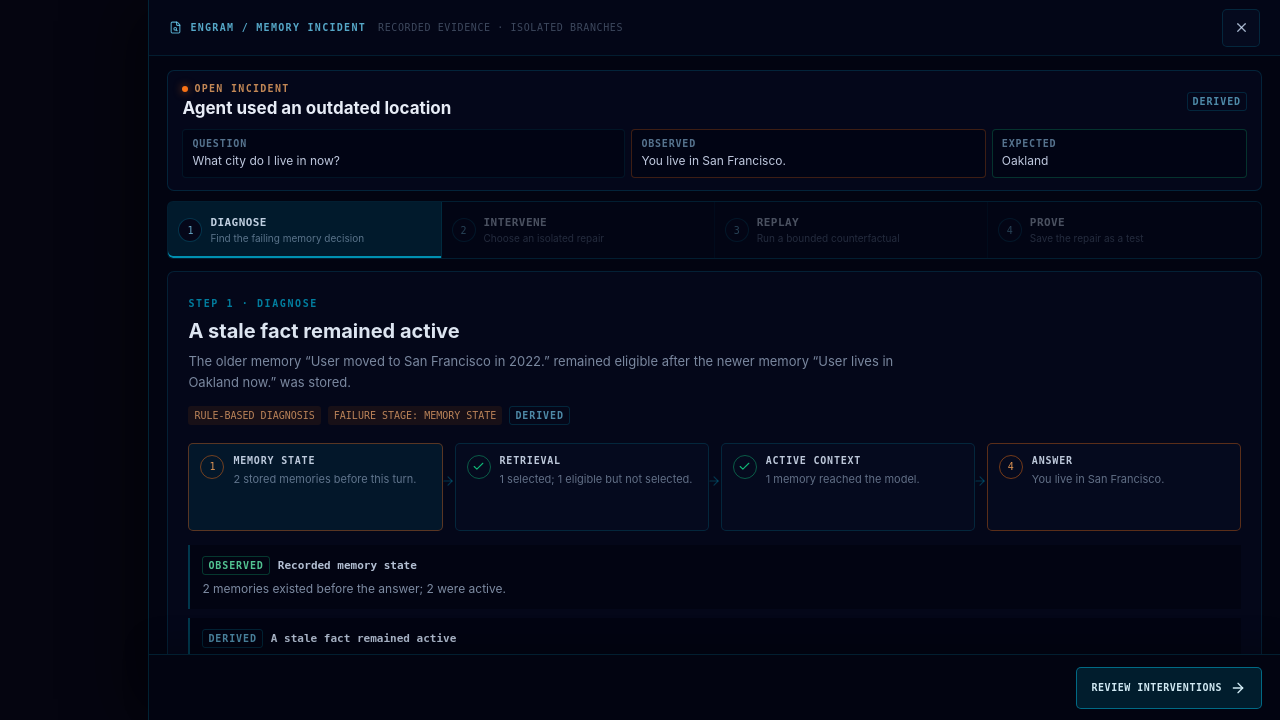
Test: IncidentWorkspace › connects the observed answer to evidence and a diagnosis-specific repair
The image size is (1280, 720).
Expected: the heading "Agent used an outdated location" is shown, [182,98,451,119]
Expected: the text "You live in San Francisco." in the row of "What city do I live in now?" is shown, [641,153,786,168]
Click the button with aria-label "Inspect Retrieval evidence" at (582, 487), box [454,443,709,531]
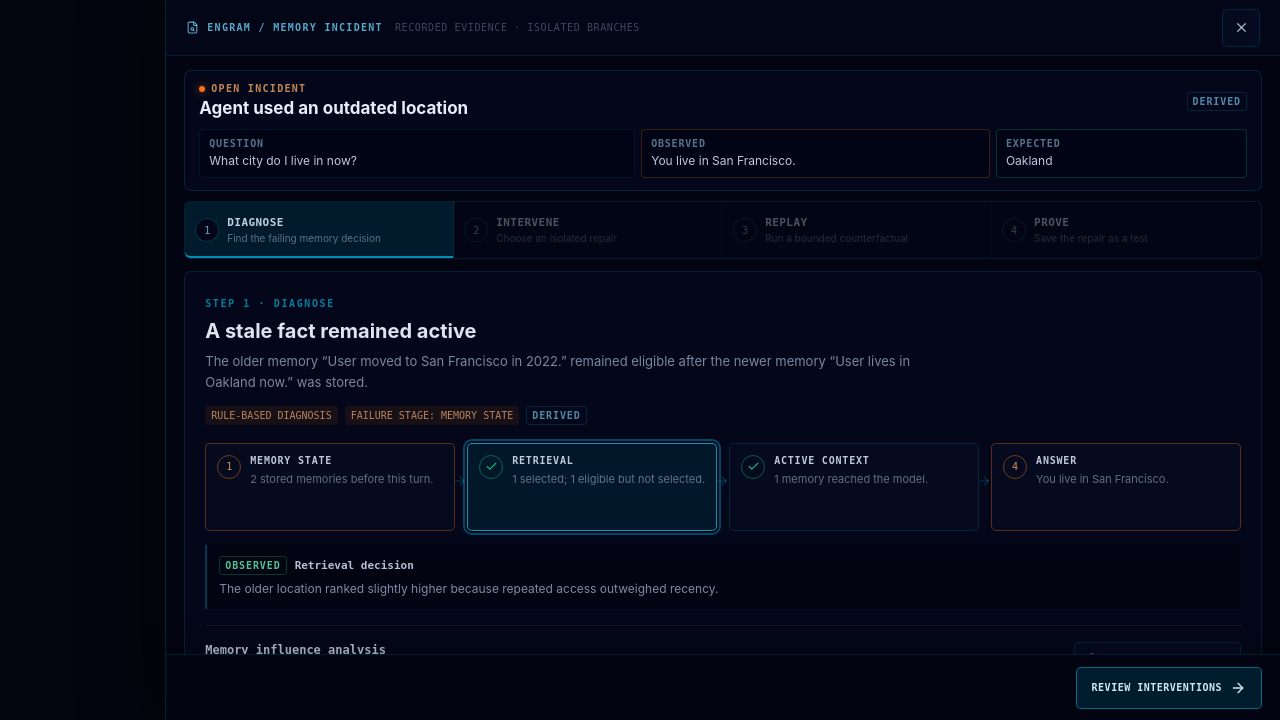
Click the button "Review interventions" at (1169, 688), box [1076,666,1262,708]
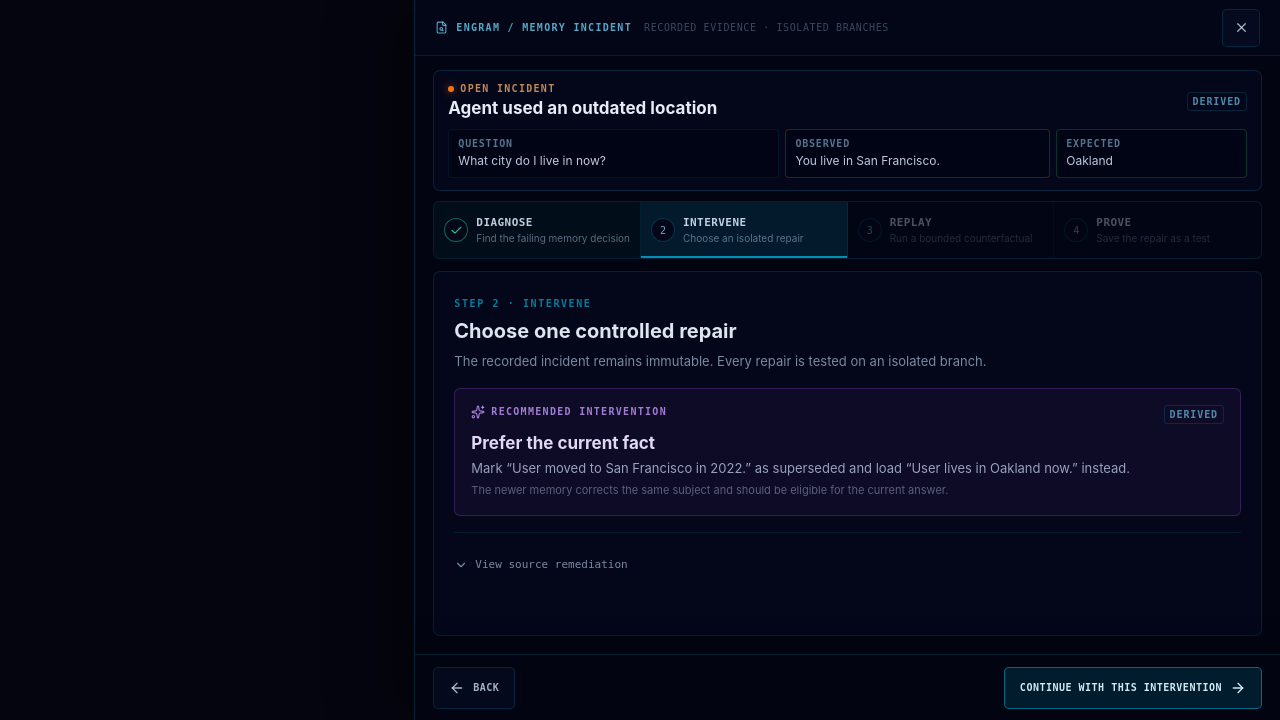
Expected: the heading "Prefer the current fact" is shown, [471,433,655,453]
